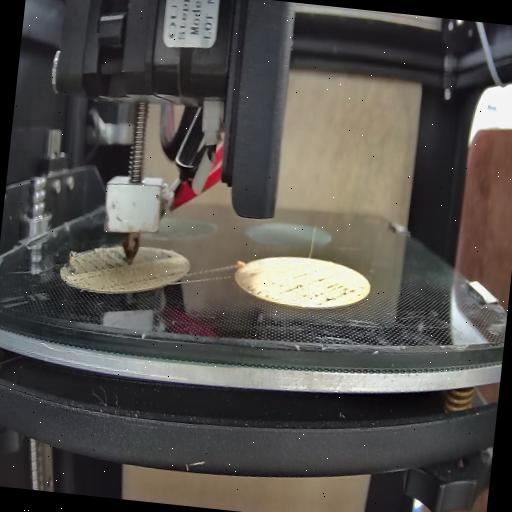under_extrusion: (244, 268, 362, 306), (63, 240, 129, 276), (127, 265, 184, 286)
